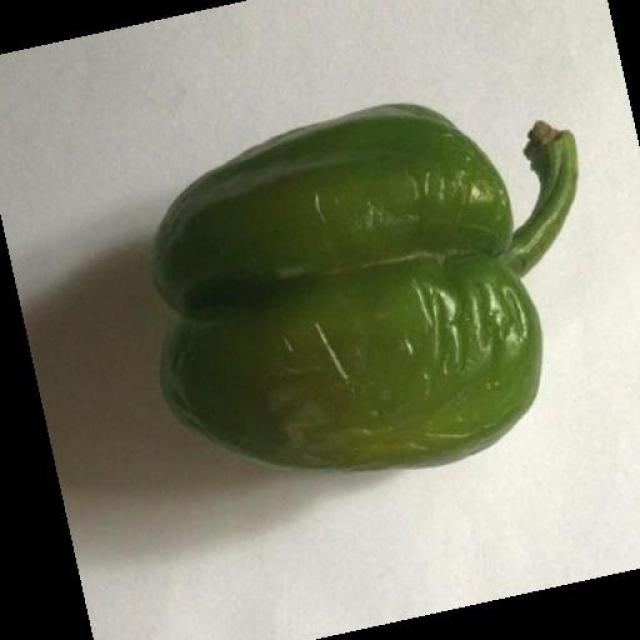Stale_Capsicum: (124, 123, 597, 469)
